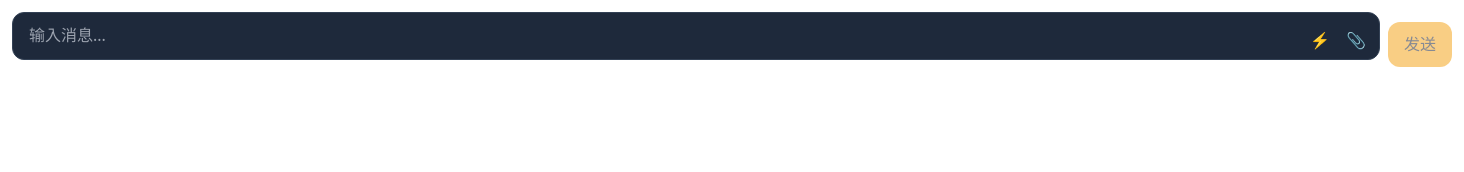
Test case: NewMessageInput › shows quick actions when button is clicked
Step 1. Click the button named "快捷操作" → (1320, 40), box [1304, 22, 1336, 59]
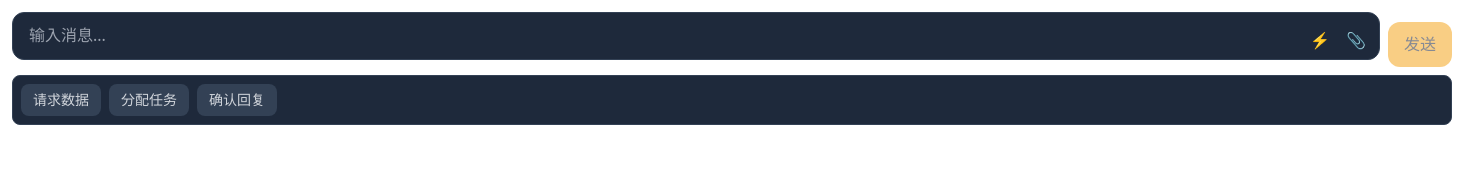
Result: the button "请求数据" is shown at [21, 84, 101, 116]
Result: the button "分配任务" is shown at [109, 84, 189, 116]
Result: the button "确认回复" is shown at [197, 84, 277, 116]
